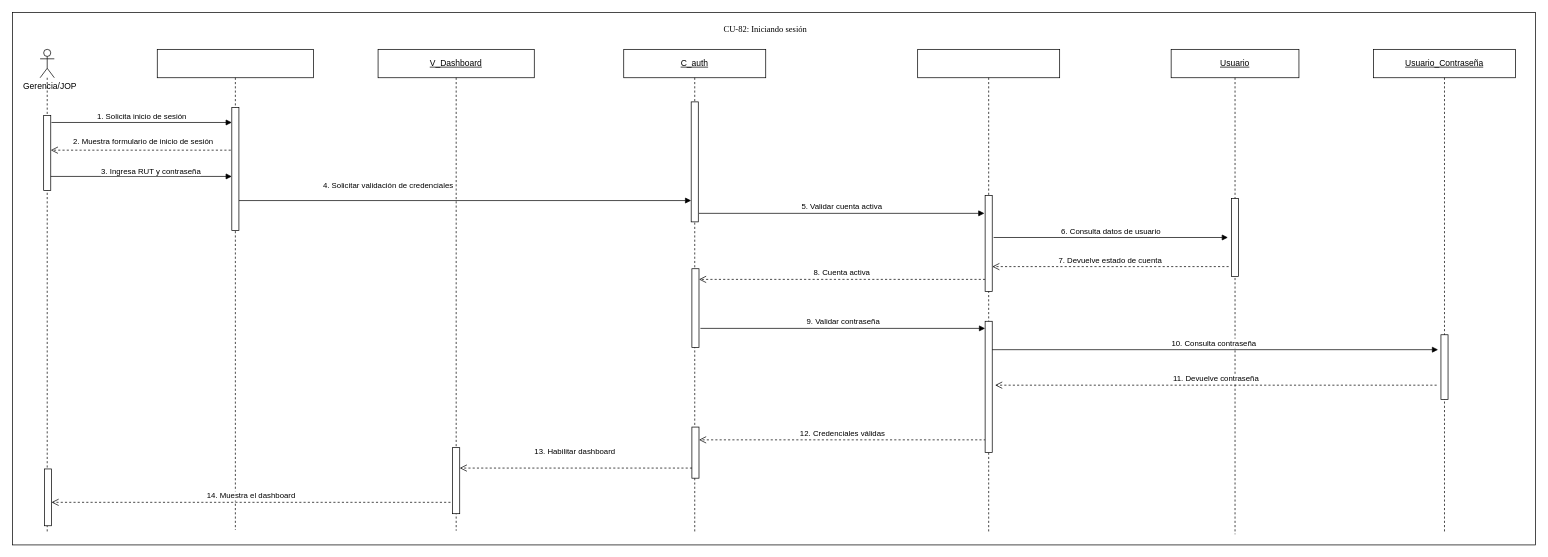
Some shapes in this 1548 by 557 pixel diagram are drawn without their labels. Here are the shapes that lost their labels. From the top down, the box of each, then its label:
(157, 49, 313, 530): V_Iniciar_Sesion
(917, 49, 1060, 533): C_Postgre
